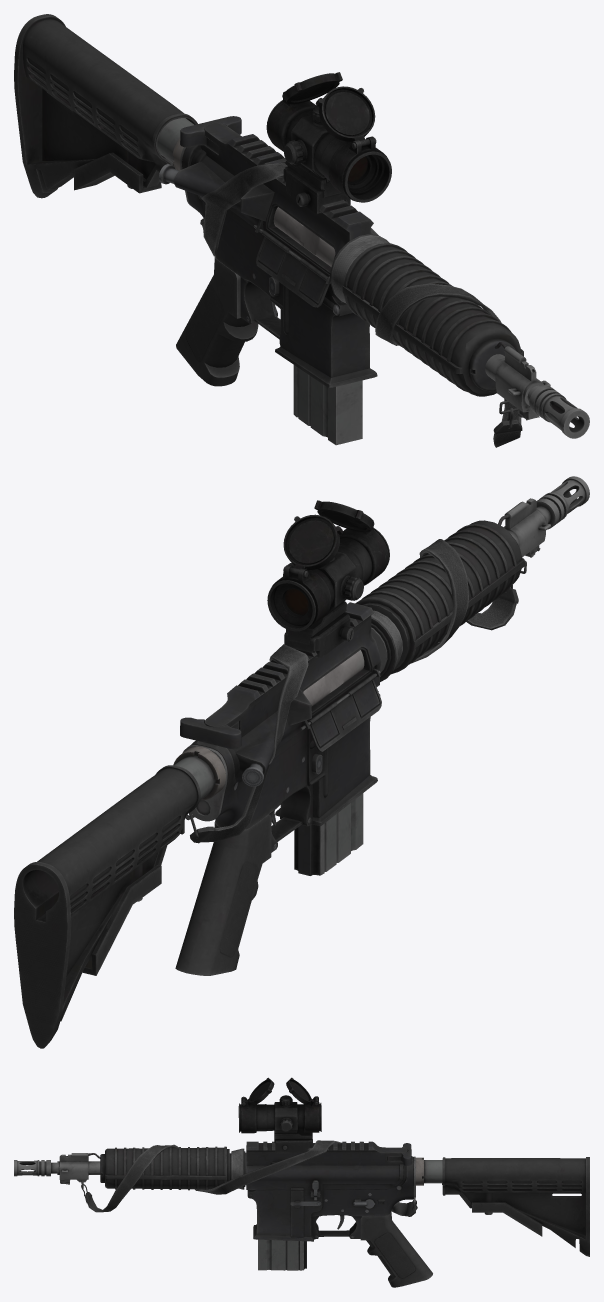
The model's file is m4classic.glb.
The picture shows the model from 3 angles, top to bottom: view 1: azimuth 30°, elevation 25°; view 2: azimuth 150°, elevation 25°; view 3: azimuth 270°, elevation 25°; orthographic projection. The views are drawn at different scales.
Parts seen in each view (by area): view 1: Receiver, Stock, Scope, Sling, Magazine, BoltCarrier, ChargingHandle; view 2: Receiver, Stock, Scope, Sling, Magazine, ChargingHandle, BoltCarrier; view 3: Receiver, Stock, Scope, Sling, Magazine.
Boxes of the visible parts, x1,y1,x2,y2 form: Receiver: [157, 118, 589, 438]; Stock: [14, 14, 197, 198]; Scope: [266, 72, 391, 214]; Sling: [200, 163, 522, 447]; Magazine: [293, 365, 362, 445]; BoltCarrier: [273, 207, 335, 266]; ChargingHandle: [180, 116, 241, 153]; Receiver: [173, 476, 589, 975]; Stock: [14, 765, 200, 1048]; Scope: [267, 500, 389, 658]; Sling: [189, 539, 526, 843]; Magazine: [294, 793, 363, 875]; ChargingHandle: [180, 717, 241, 749]; BoltCarrier: [303, 650, 364, 706]; Receiver: [14, 1141, 442, 1287]; Stock: [442, 1157, 589, 1256]; Scope: [238, 1077, 321, 1153]; Sling: [81, 1140, 417, 1216]; Magazine: [258, 1239, 306, 1270].
Bounding box in the file's own units: 0.0652 × 0.2612 × 0.6679.
Materials: 3 (3 with a texture image).
